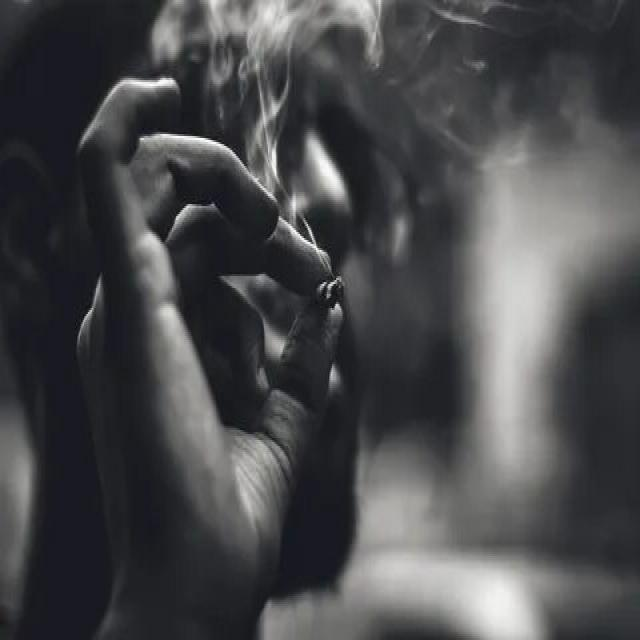smoke: (306, 262, 354, 314)
